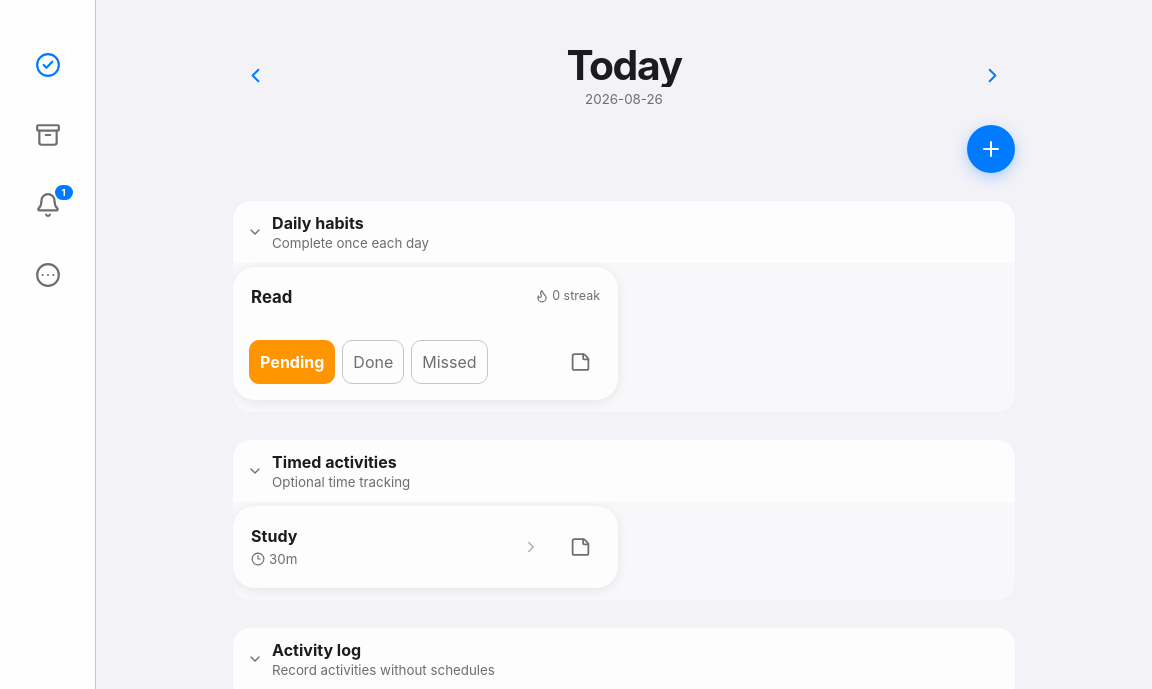
Habit Tracker › keeps historical timed activities manual-only
Step 1. Click the button named "Previous day" → (255, 75), box [233,53,277,97]
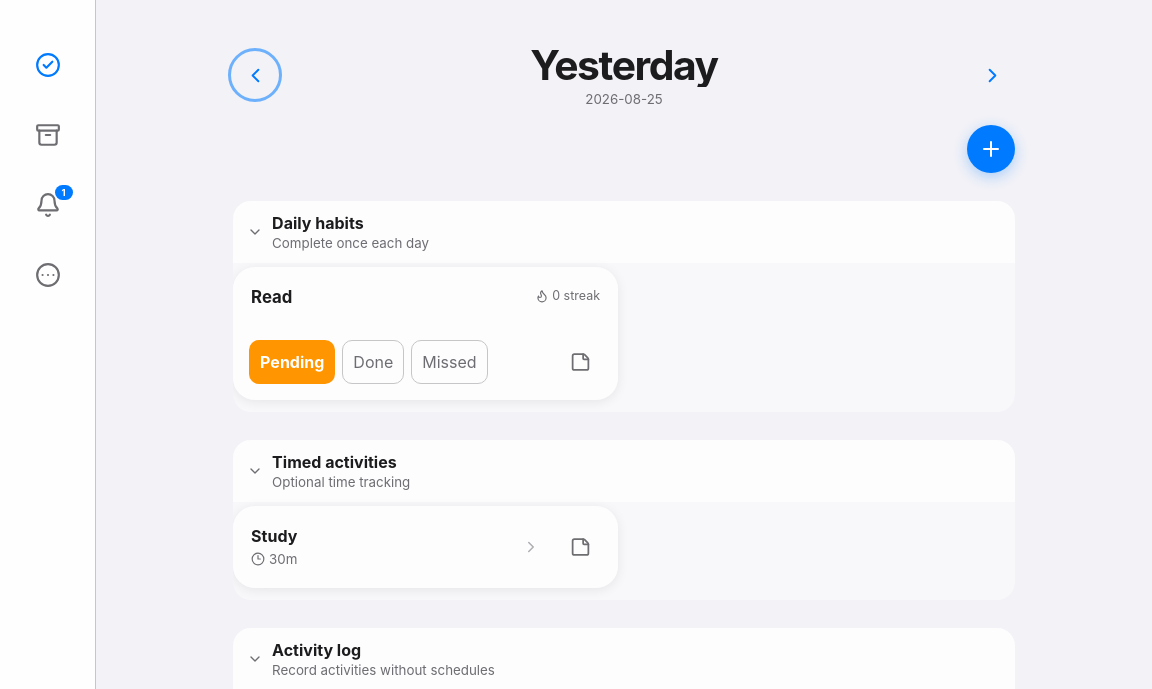
Step 2. Click the button with aria-label "Open Study" → (274, 536), box [249,522,542,571]
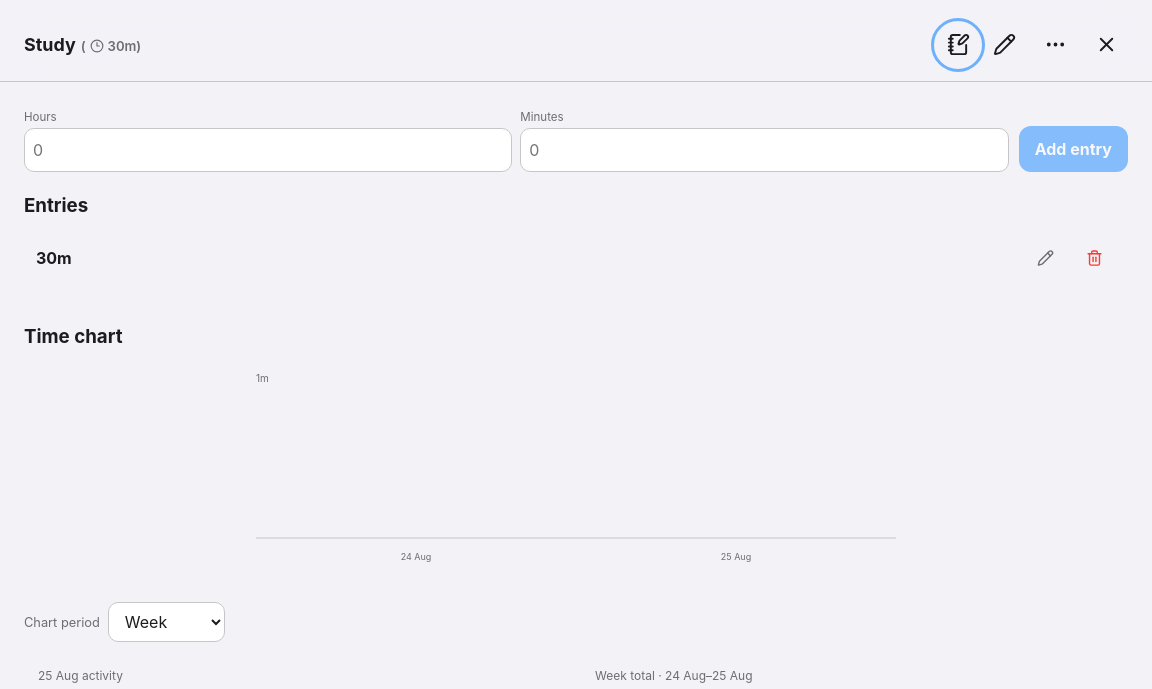
Result: the number field labelled "Hours" is shown at [24,128,512,172]
